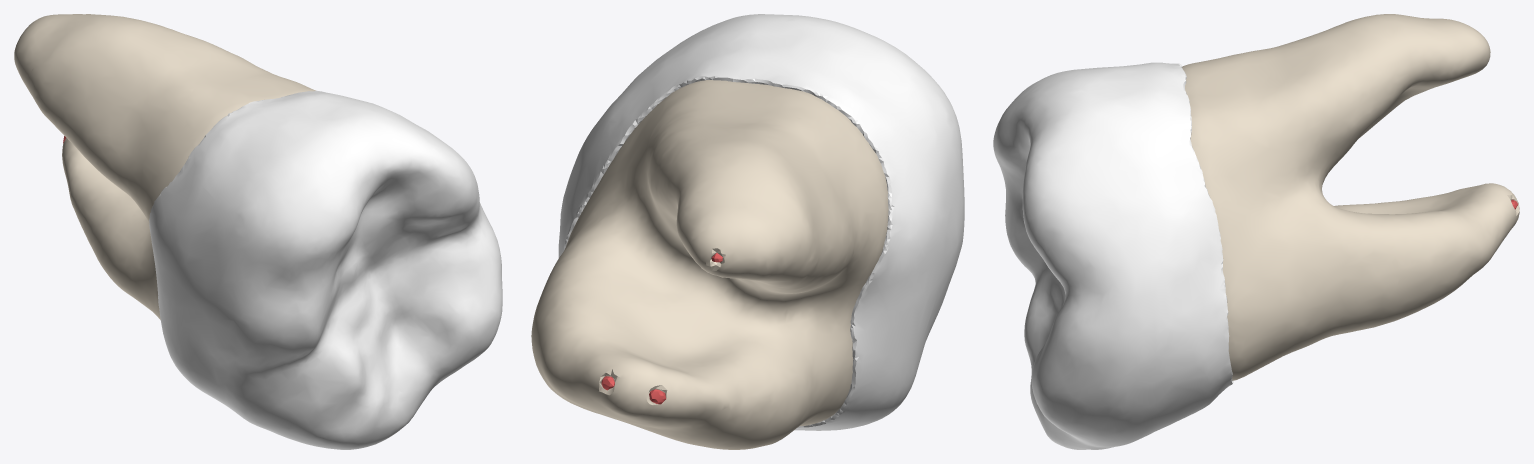
File: 恒牙下颌第二磨牙.fbx
The picture shows the model from 3 angles, left to right: view 1: azimuth 30°, elevation 25°; view 2: azimuth 150°, elevation 25°; view 3: azimuth 270°, elevation 25°; orthographic projection. The views are drawn at different scales.
Visible parts, largest first — view 1: texture_W, texture_B; view 2: texture_B, texture_W, texture_S; view 3: texture_W, texture_B.
Boxes of the visible parts, x1,y1,x2,y2 form: texture_W: (149,90,502,449); texture_B: (14,14,315,319); texture_B: (531,80,888,449); texture_W: (558,14,964,430); texture_S: (601,253,722,404); texture_W: (993,62,1233,449); texture_B: (1182,14,1519,380).
Bounding box in the file's own units: 15.89 × 16.08 × 21.13.
3 materials, 3 textured.
